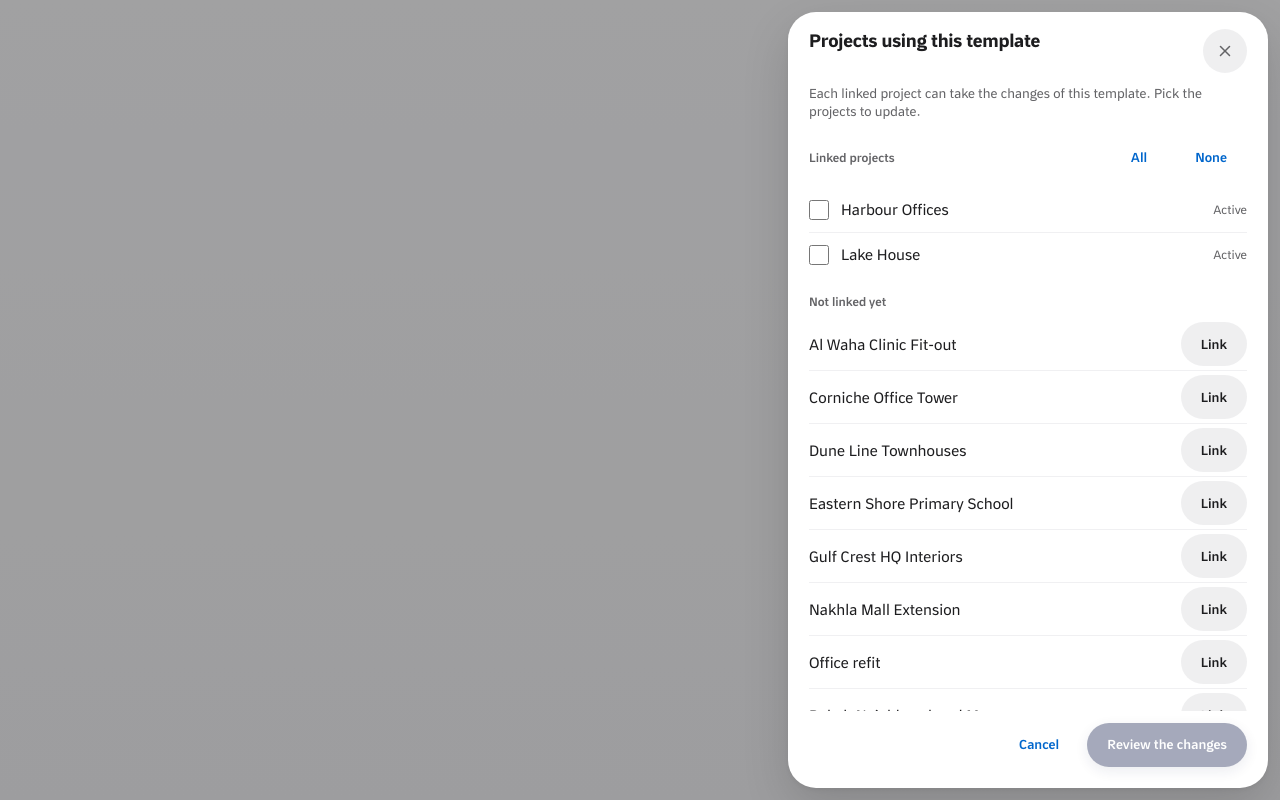
Scenario: Projects using this template › links a project that is not linked, from the same sheet
Check: the element "Linked projects" is shown, box [809,136,1247,277]
Click the button with aria-label "Link Office refit": (1214, 662) [1181,640,1247,684]
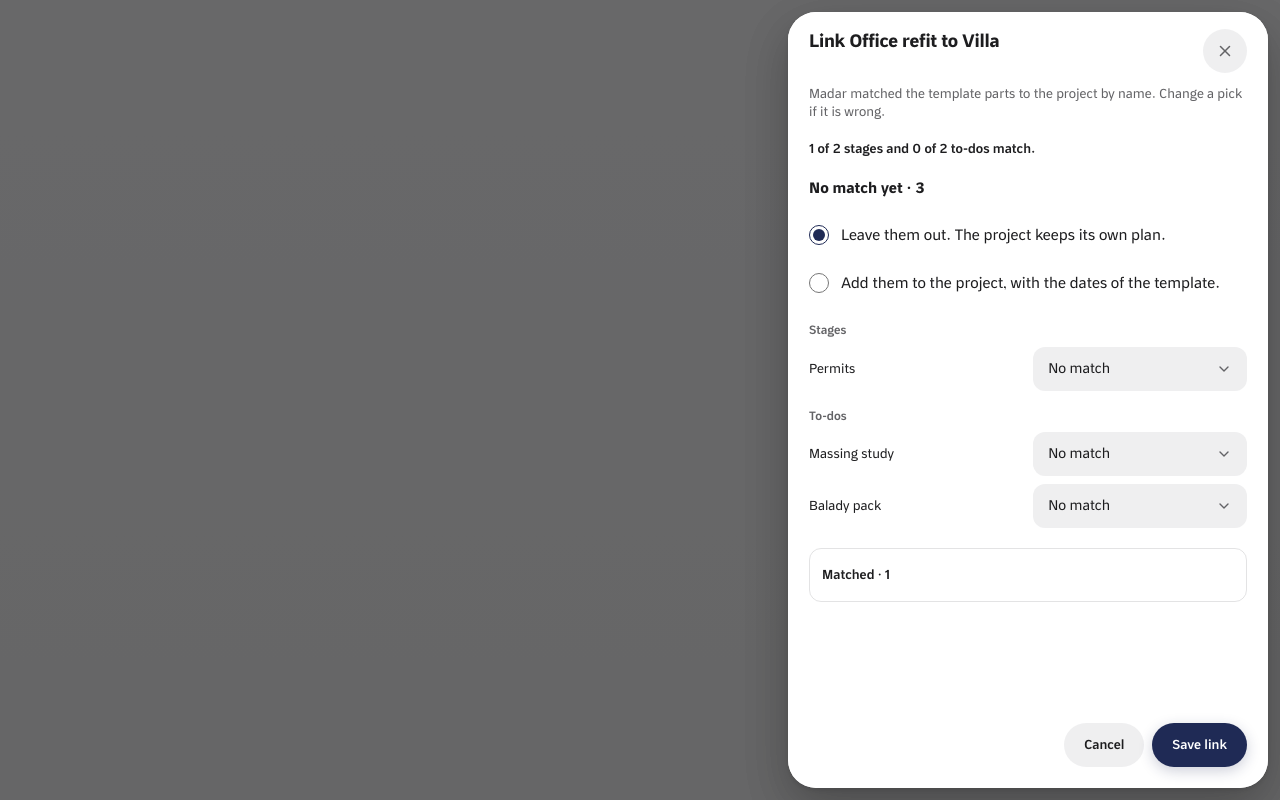
Check: the dialog "Link Office refit to Villa" is shown, box [788,12,1268,788]
